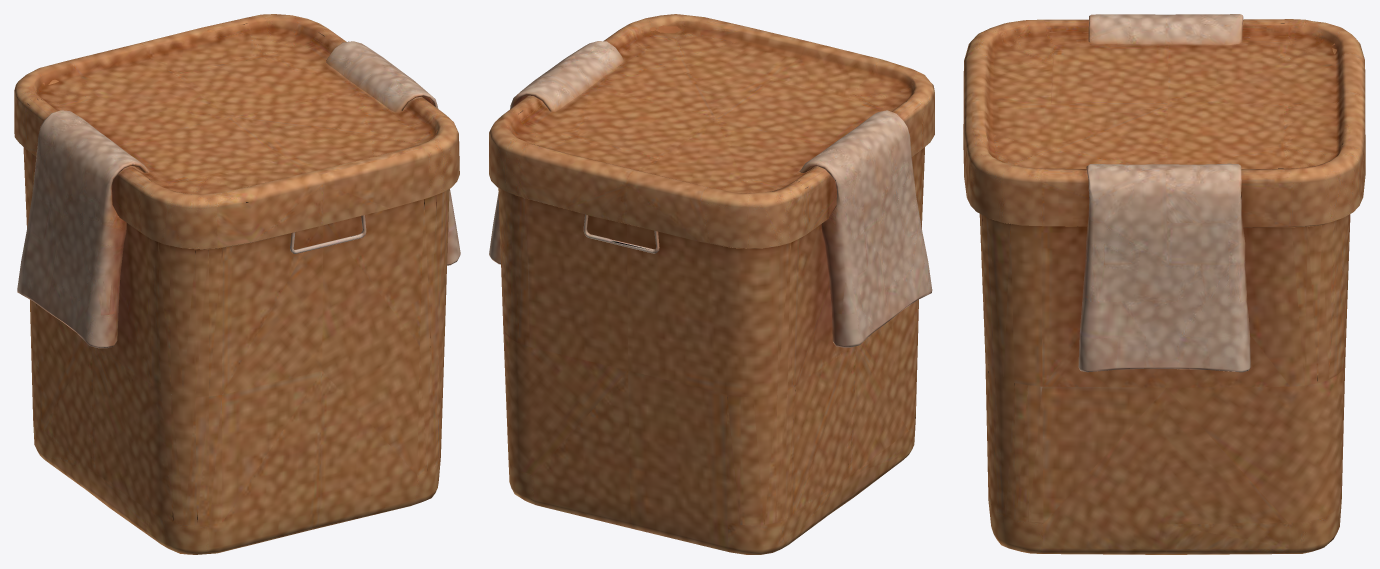
Rendered from wicker_hamper.glb.
3 renders of one model, left to right at view 1: azimuth 30°, elevation 25°; view 2: azimuth 150°, elevation 25°; view 3: azimuth 270°, elevation 25°, orthographic. The views are drawn at different scales.
Visible parts, largest first — view 1: geometry_0; view 2: geometry_0; view 3: geometry_0.
Boxes of the visible parts, box(x1,y1,x2,y2) form: geometry_0: box(14, 14, 460, 554); geometry_0: box(489, 14, 934, 554); geometry_0: box(963, 14, 1365, 554).
Size of the model in its own units: 1 by 0.9601 by 0.8819.
Materials: 1 (1 with a texture image).
